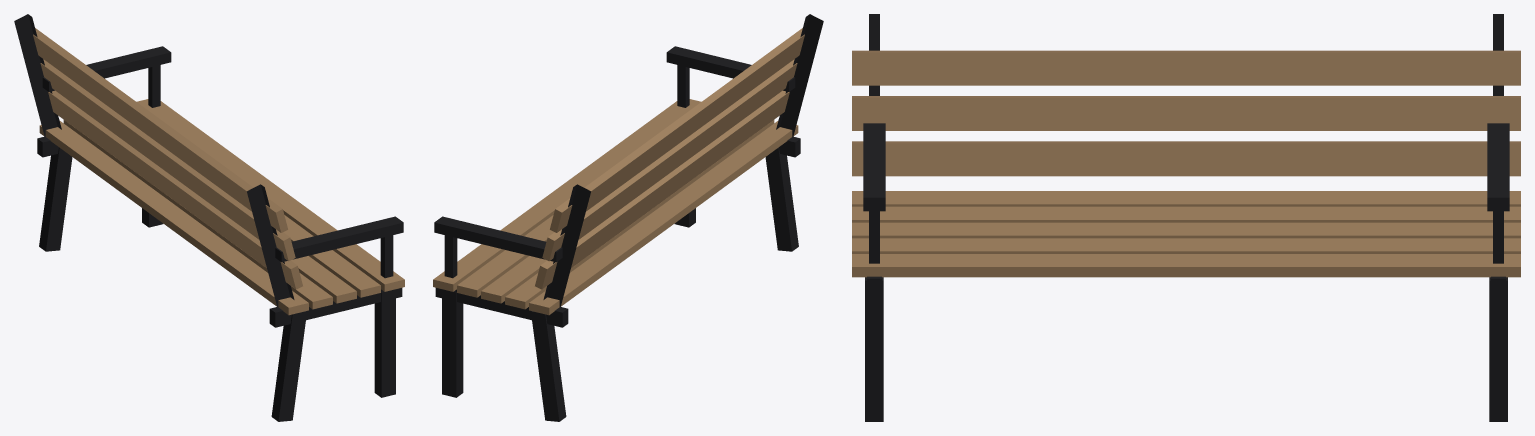
Rendered from bench_street.glb.
3 renders of one model, left to right at view 1: azimuth 30°, elevation 25°; view 2: azimuth 150°, elevation 25°; view 3: azimuth 270°, elevation 25°, orthographic. The views are drawn at different scales.
Parts seen in each view (by area): view 1: Slat_LOD0.004, Back_LOD0.002, Back_LOD0, Back_LOD0.001, Slat_LOD0, LegRear_LOD0, LegFront_LOD0, LegRear_LOD0.001, Arm_LOD0, Post_LOD0, Post_LOD0.001, Slat_LOD0.001 (+6 smaller); view 2: Slat_LOD0.004, Back_LOD0.002, Back_LOD0, Back_LOD0.001, Slat_LOD0, LegRear_LOD0.001, LegFront_LOD0.001, LegRear_LOD0, Arm_LOD0.001, Post_LOD0.001, Post_LOD0, Slat_LOD0.001 (+6 smaller); view 3: Back_LOD0.002, Back_LOD0.001, Back_LOD0, Slat_LOD0, Slat_LOD0.002, Slat_LOD0.003, Slat_LOD0.001, Slat_LOD0.004, LegFront_LOD0, LegFront_LOD0.001, Arm_LOD0, Arm_LOD0.001.
Part boxes in pixels (x1,y1,x2,y2): Slat_LOD0.004: (39,121,308,315); Back_LOD0.002: (33,28,287,232); Back_LOD0: (48,90,302,289); Back_LOD0.001: (40,59,295,261); Slat_LOD0: (136,99,404,291); LegRear_LOD0: (271,311,306,421); LegFront_LOD0: (374,289,395,397); LegRear_LOD0.001: (39,147,72,251); Arm_LOD0: (275,216,403,262); Post_LOD0: (247,184,294,307); Post_LOD0.001: (14,14,61,136); Slat_LOD0.001: (283,215,380,297); Slat_LOD0.004: (529,121,798,315); Back_LOD0.002: (550,28,804,232); Back_LOD0: (535,90,789,289); Back_LOD0.001: (542,59,797,261); Slat_LOD0: (433,99,701,291); LegRear_LOD0.001: (531,311,566,421); LegFront_LOD0.001: (442,289,463,397); LegRear_LOD0: (765,147,798,251); Arm_LOD0.001: (434,216,562,262); Post_LOD0.001: (543,184,590,307); Post_LOD0: (776,14,823,136); Slat_LOD0.001: (457,215,554,297); Back_LOD0.002: (852,50,1520,85); Back_LOD0.001: (852,96,1520,130); Back_LOD0: (852,141,1520,176); Slat_LOD0: (852,254,1520,277); Slat_LOD0.002: (852,222,1520,238); Slat_LOD0.003: (852,206,1520,222); Slat_LOD0.001: (852,238,1520,253); Slat_LOD0.004: (852,191,1520,206); LegFront_LOD0: (865,277,883,421); LegFront_LOD0.001: (1489,277,1507,421); Arm_LOD0: (863,123,885,211); Arm_LOD0.001: (1487,123,1509,211).
Bounding box in the file's own units: 0.629 × 0.9518 × 1.8.
